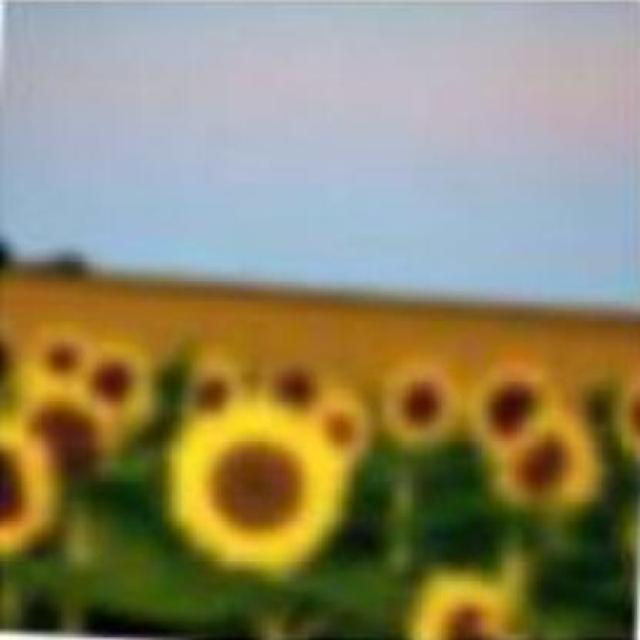sunflower: (168, 402, 347, 572), (492, 416, 610, 518), (382, 360, 466, 454), (471, 370, 560, 448)
